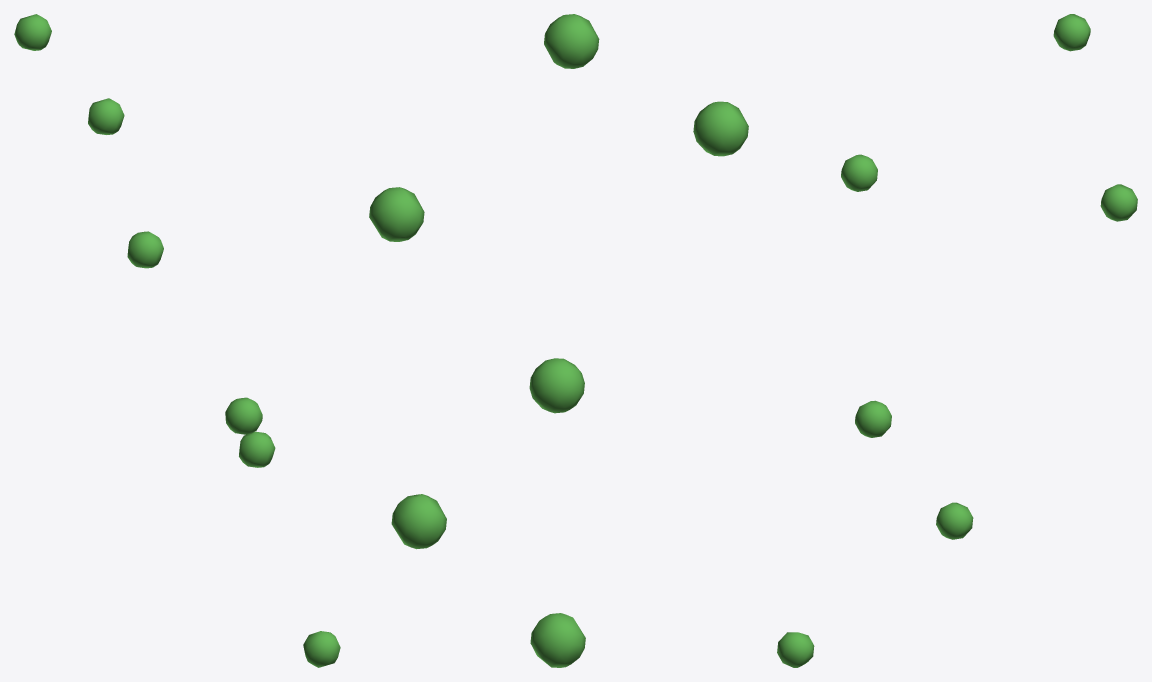
The model's file is linfatico-anterior-axillary-nodes-l.glb.
The picture shows the model from 3 angles, left to right: view 1: azimuth 30°, elevation 25°; view 2: azimuth 150°, elevation 25°; view 3: azimuth 270°, elevation 25°; orthographic projection. The views are drawn at different scales.
Parts seen in each view (by area): view 1: Anterior axillary nodes.l; view 2: Anterior axillary nodes.l; view 3: Anterior axillary nodes.l.
Part boxes in pixels (box(x1,y1,x2,y2)): Anterior axillary nodes.l: box(14, 14, 340, 667); Anterior axillary nodes.l: box(369, 14, 748, 667); Anterior axillary nodes.l: box(777, 14, 1137, 667).
Size of the model in its own units: 0.0155 by 0.0437 by 0.0248.
